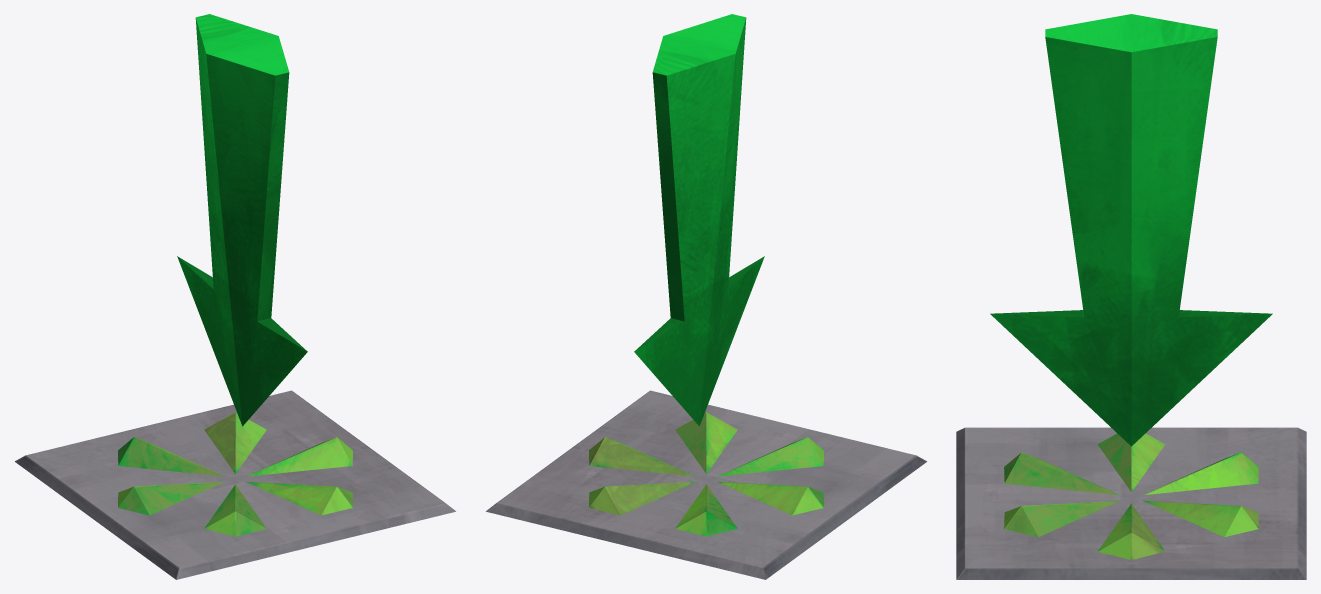
Rendered from tile_start.fbx.
The picture shows the model from 3 angles, left to right: view 1: azimuth 30°, elevation 25°; view 2: azimuth 150°, elevation 25°; view 3: azimuth 270°, elevation 25°; orthographic projection. The views are drawn at different scales.
Parts seen in each view (by area): view 1: start_tile, start_arrow, start_spot6; view 2: start_tile, start_arrow, start_spot6; view 3: start_arrow, start_tile, start_spot6.
Boxes of the visible parts, left/top/right/bottom form: start_tile: left=15, top=390, right=455, bottom=579; start_arrow: left=177, top=14, right=307, bottom=426; start_spot6: left=118, top=412, right=352, bottom=536; start_tile: left=486, top=390, right=926, bottom=579; start_arrow: left=634, top=14, right=764, bottom=426; start_spot6: left=589, top=412, right=823, bottom=536; start_arrow: left=990, top=14, right=1272, bottom=446; start_tile: left=956, top=427, right=1306, bottom=579; start_spot6: left=1004, top=433, right=1258, bottom=559.
Bounding box in the file's own units: 0.02 × 0.03 × 0.02.
